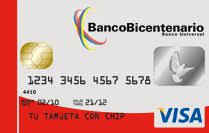tarjeta: (1, 1, 209, 133)
